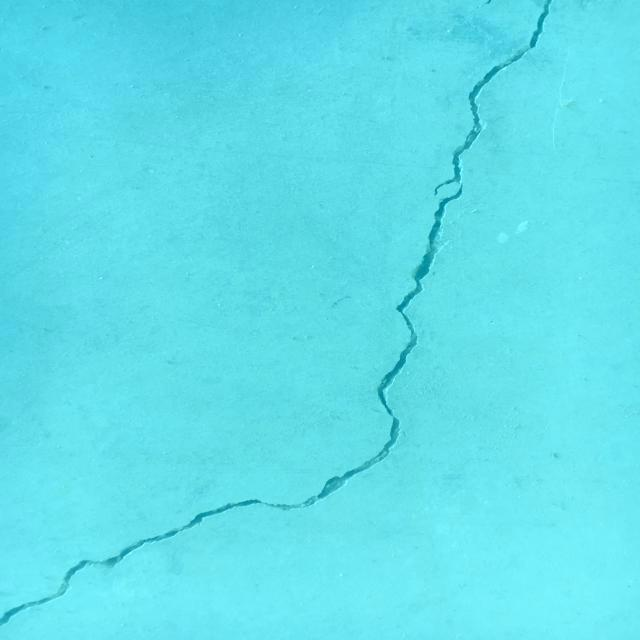crack: (0, 0, 552, 627), (469, 0, 493, 16)
